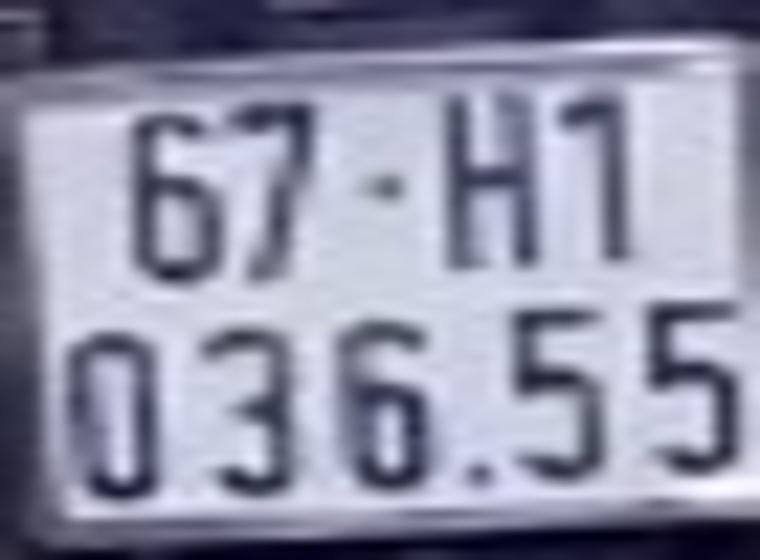-: (367, 171, 405, 195)
.: (469, 466, 494, 484)
0: (66, 329, 158, 494)
1: (560, 92, 632, 260)
3: (203, 322, 299, 494)
5: (645, 298, 741, 475), (513, 308, 608, 478)
6: (128, 107, 219, 280), (335, 323, 429, 488)
7: (236, 103, 314, 278)
H: (443, 94, 538, 269)
